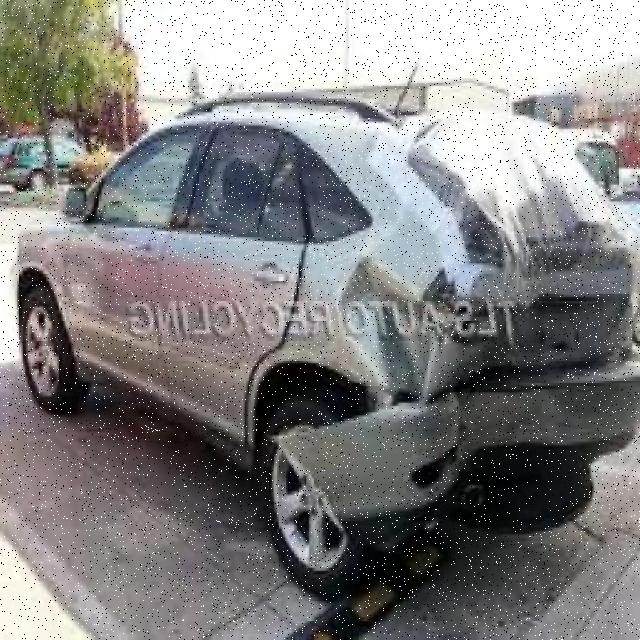damage: (264, 106, 636, 543)
